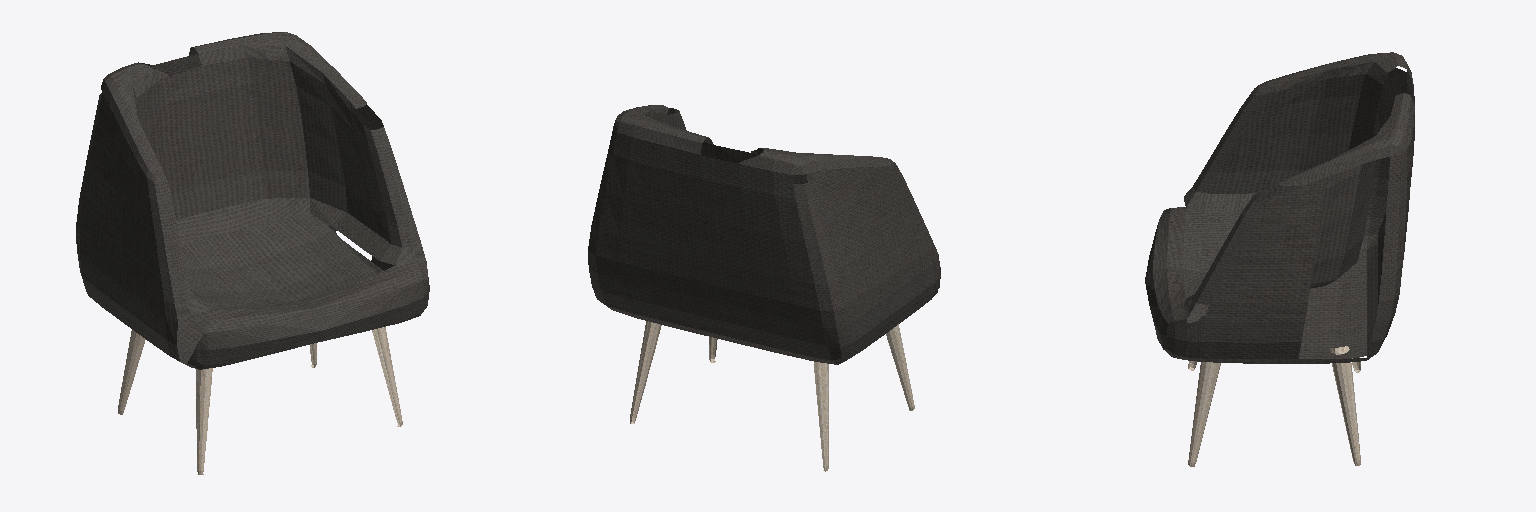
3 views of the same model, side by side, from view 1: azimuth 30°, elevation 25°; view 2: azimuth 150°, elevation 25°; view 3: azimuth 270°, elevation 25° (orthographic).
Visible parts, largest first — view 1: Cube; view 2: Cube; view 3: Cube.
Part boxes in pixels (x1,y1,x2,y2): Cube: (76,32,429,474); Cube: (588,105,940,471); Cube: (1145,52,1414,466).
Size of the model in its own units: 2.29 by 2.78 by 2.08.
Materials: 1 (1 with a texture image).